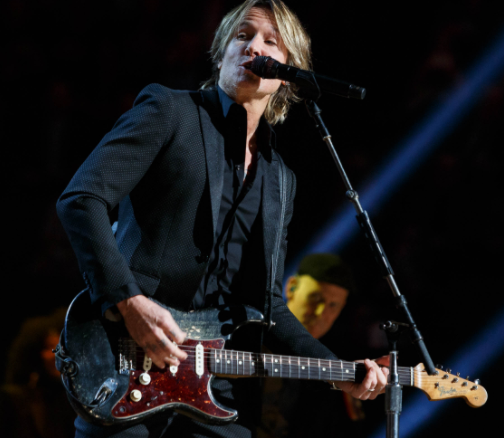fretboard: (208, 349, 414, 386)
